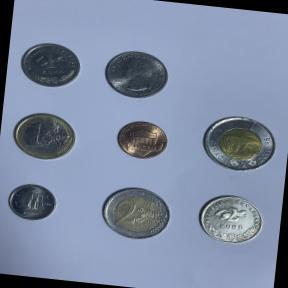1 Euro: (9, 108, 82, 164)
2 Euro: (96, 182, 176, 244)
Canda-10cent-: (4, 180, 62, 225)
Canda-2Dollar-: (197, 110, 282, 176)
Croatia-2Kune-: (193, 190, 269, 250)
US-1cent-: (111, 116, 173, 164)
US-25cent-: (99, 47, 173, 102)
